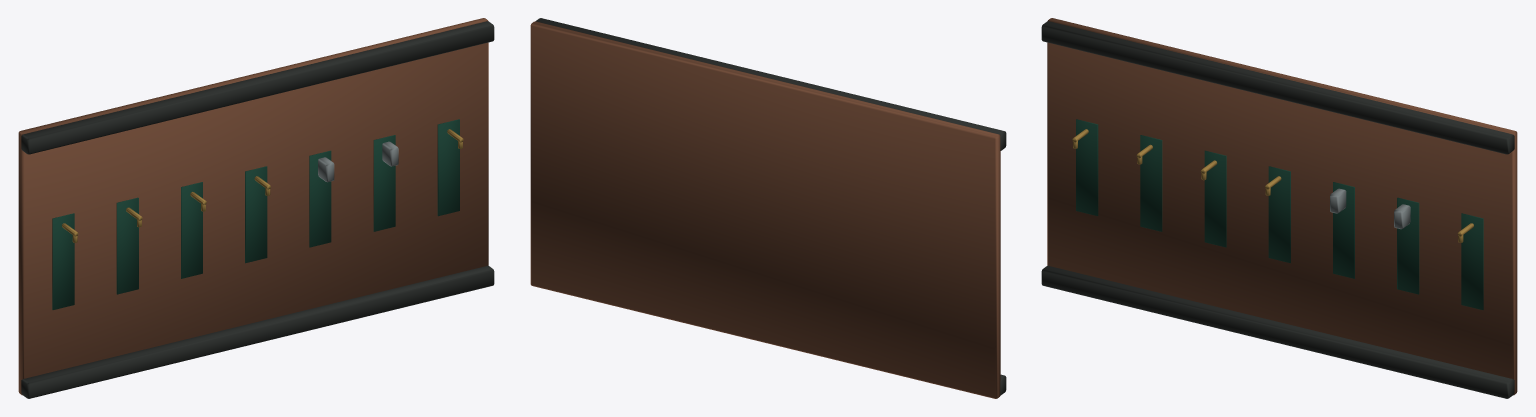
File: shed_wallrack.glb
The picture shows the model from 3 angles, left to right: view 1: azimuth 30°, elevation 25°; view 2: azimuth 150°, elevation 25°; view 3: azimuth 330°, elevation 25°; orthographic projection.
Visible parts, largest first — view 1: MESH_RackFrame, MESH_RackSilhouettes, MESH_RackHooks; view 2: MESH_RackFrame; view 3: MESH_RackFrame, MESH_RackSilhouettes, MESH_RackHooks.
Boxes of the visible parts, x1,y1,x2,y2 form: MESH_RackFrame: (18, 18, 494, 398); MESH_RackSilhouettes: (52, 119, 459, 309); MESH_RackHooks: (62, 129, 463, 242); MESH_RackFrame: (530, 18, 1006, 398); MESH_RackFrame: (1041, 18, 1517, 398); MESH_RackSilhouettes: (1076, 119, 1483, 309); MESH_RackHooks: (1072, 129, 1473, 242).
Bounding box in the file's own units: 1.6 × 0.86 × 0.1276.
